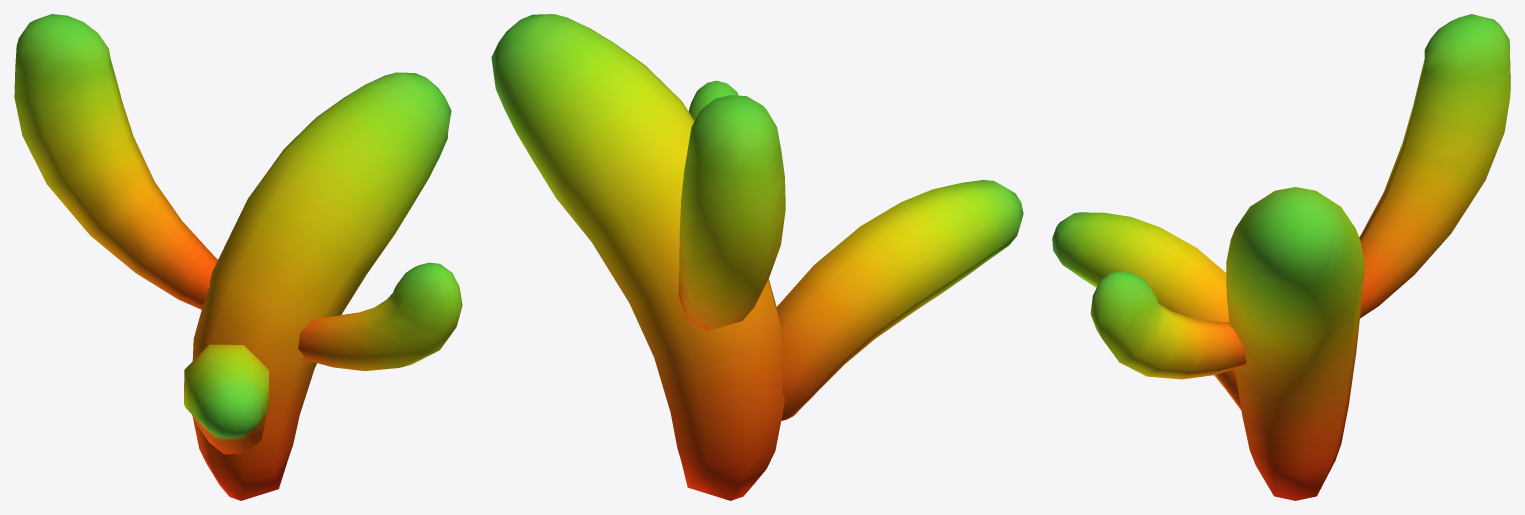
The model's file is Bush_01.glb.
3 renders of one model, left to right at view 1: azimuth 30°, elevation 25°; view 2: azimuth 150°, elevation 25°; view 3: azimuth 270°, elevation 25°, orthographic. The views are drawn at different scales.
Visible parts, largest first — view 1: Bush_01; view 2: Bush_01; view 3: Bush_01.
Boxes of the visible parts, box(x1,y1,x2,y2) form: Bush_01: box(14, 14, 462, 500); Bush_01: box(491, 14, 1023, 500); Bush_01: box(1052, 14, 1510, 500).
Size of the model in its own units: 3.97 by 4.71 by 4.59.
Materials: 1 (1 with a texture image).
